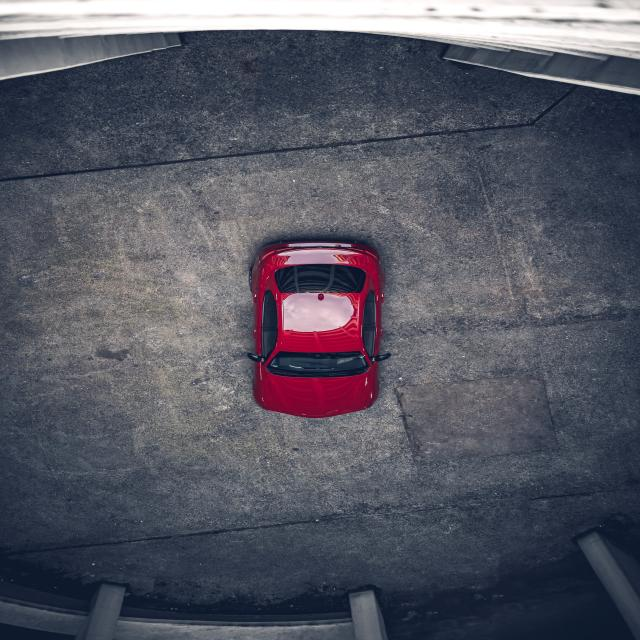Car: (246, 240, 392, 419)
